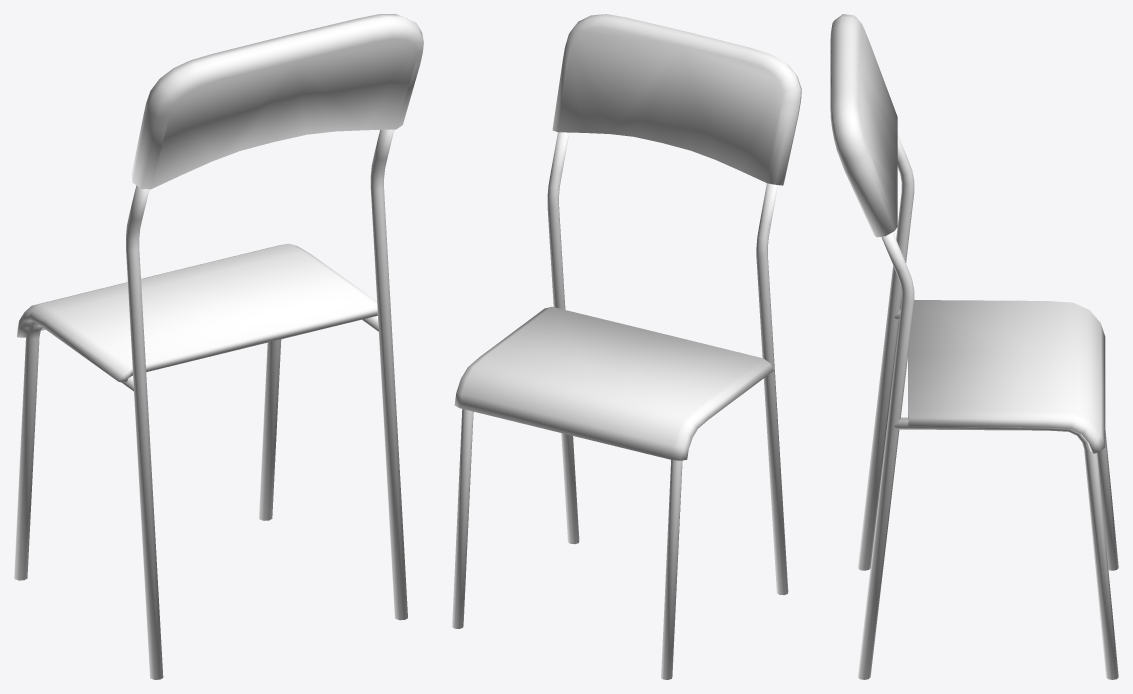
The model's file is chair6.glb.
3 renders of one model, left to right at view 1: azimuth 30°, elevation 25°; view 2: azimuth 150°, elevation 25°; view 3: azimuth 270°, elevation 25°, orthographic. The views are drawn at different scales.
Parts seen in each view (by area): view 1: chair; view 2: chair; view 3: chair.
Part boxes in pixels (x1=…): chair: x1=14, y1=14, x2=423, y2=679; chair: x1=452, y1=14, x2=801, y2=679; chair: x1=830, y1=14, x2=1118, y2=679.
Bounding box in the file's own units: 2.62 × 5.64 × 2.61.
Materials: 1 (1 with a texture image).
